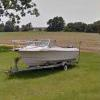Boat: (7, 33, 84, 78)
